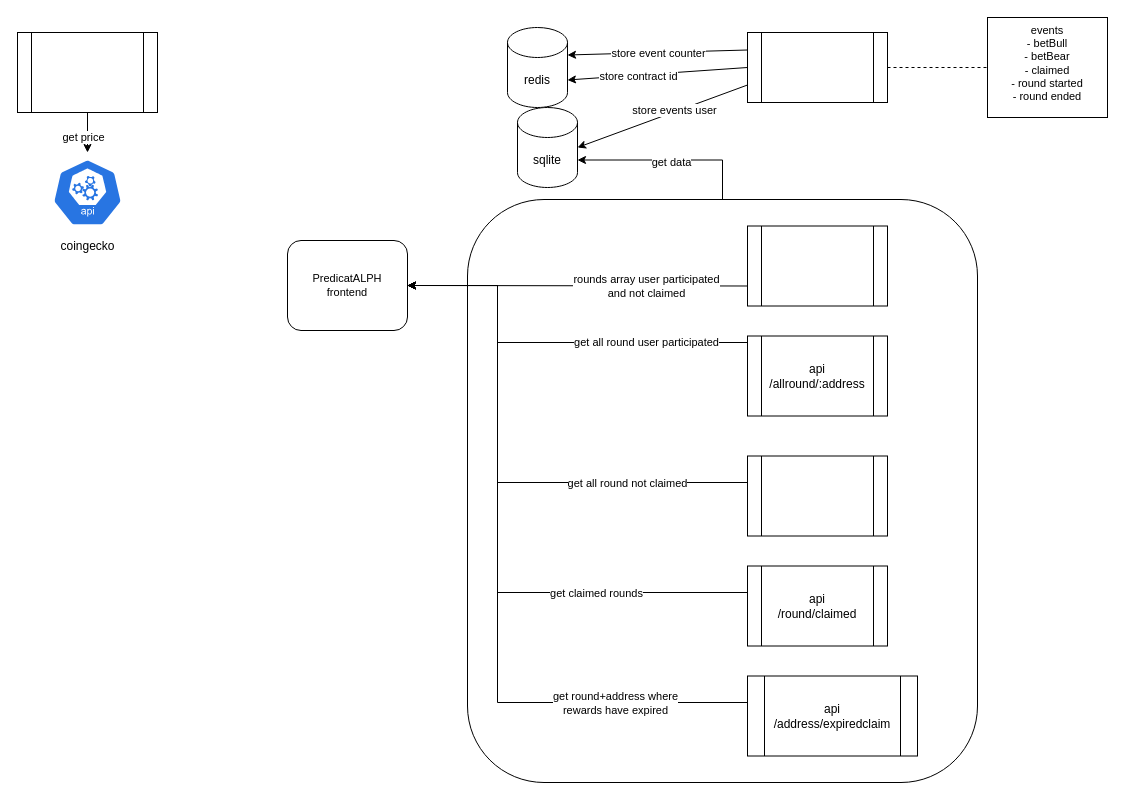
This 1125x800 diagram has some shape labels left out. Here are the shapes that lost their labels. From the top down, the centre of each, then its label:
At point (87, 72): "manageRound".
At point (817, 67): "eventsListener".
At point (817, 265): "api /round/:address".
At point (817, 495): "api /round/notclaimed".
